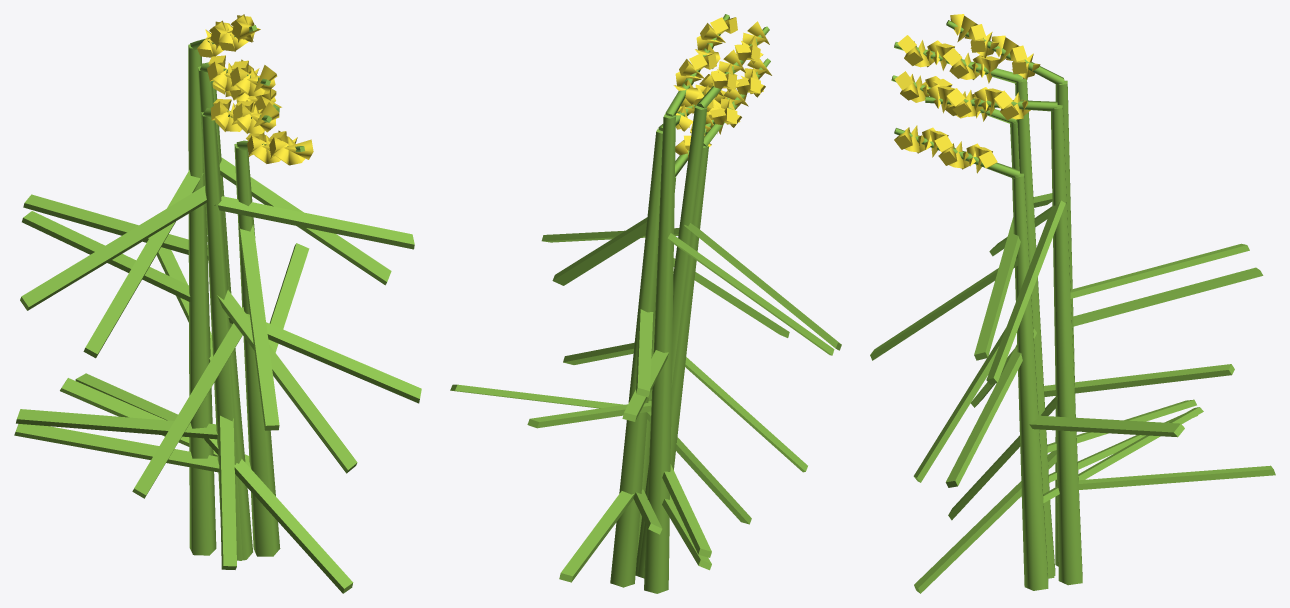
Rendered from crop_rice.glb.
The picture shows the model from 3 angles, left to right: view 1: azimuth 30°, elevation 25°; view 2: azimuth 150°, elevation 25°; view 3: azimuth 270°, elevation 25°; orthographic projection. The views are drawn at different scales.
Parts seen in each view (by area): view 1: scale_group; view 2: scale_group; view 3: scale_group.
Boxes of the visible parts, left/top/right/bottom form: scale_group: left=14, top=14, right=421, bottom=593; scale_group: left=450, top=14, right=841, bottom=593; scale_group: left=870, top=14, right=1275, bottom=593.
Size of the model in its own units: 0.5809 by 0.9074 by 0.6142.
